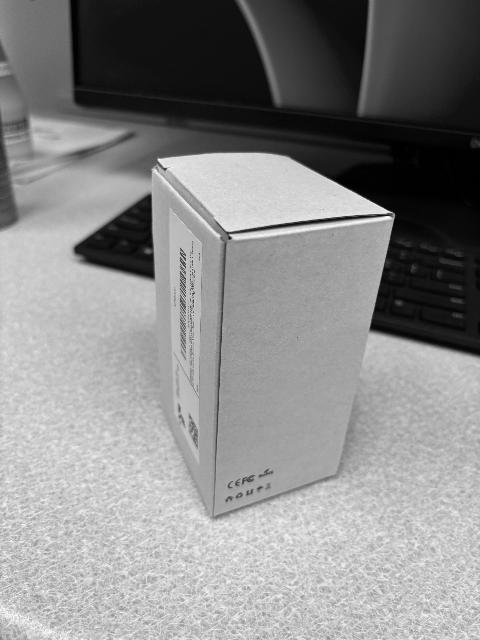CameraBox1: (150, 152, 395, 521)
